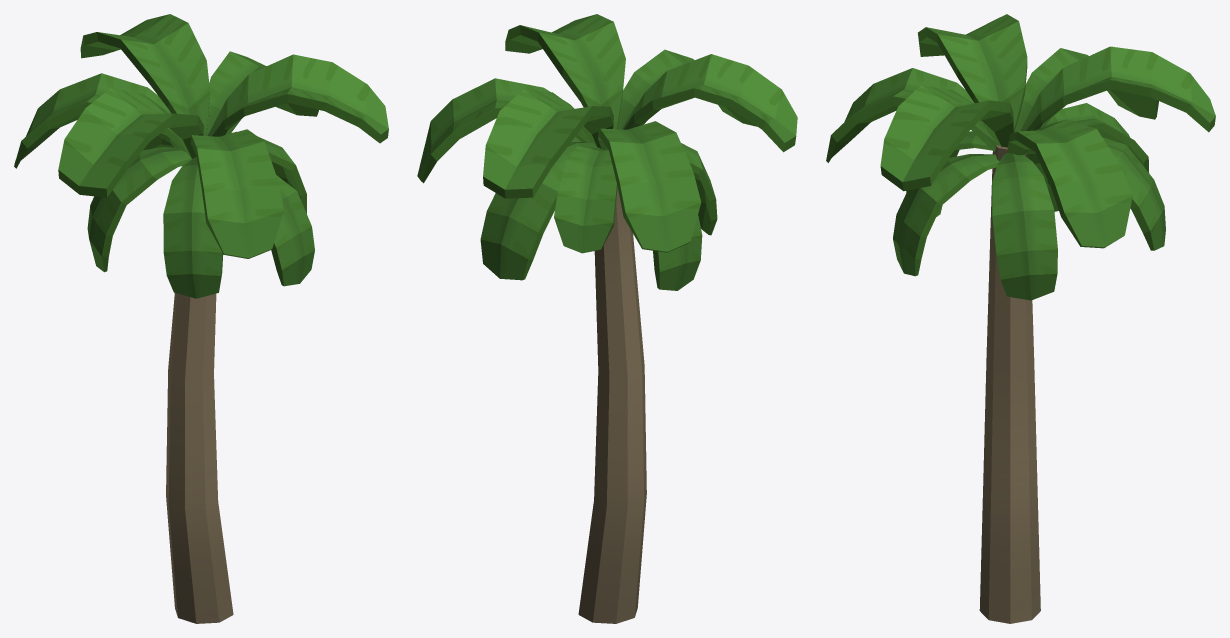
Rendered from Dino_Tree_B.fbx.
3 views of the same model, side by side, from view 1: azimuth 30°, elevation 25°; view 2: azimuth 150°, elevation 25°; view 3: azimuth 270°, elevation 25° (orthographic).
Parts seen in each view (by area): view 1: Dino_Tree_B_mesh; view 2: Dino_Tree_B_mesh; view 3: Dino_Tree_B_mesh.
Part boxes in pixels (x1,y1,x2,y2): Dino_Tree_B_mesh: (14, 14, 388, 623); Dino_Tree_B_mesh: (417, 14, 797, 623); Dino_Tree_B_mesh: (826, 14, 1215, 623).
Bounding box in the file's own units: 29.72 × 50.04 × 32.19.
